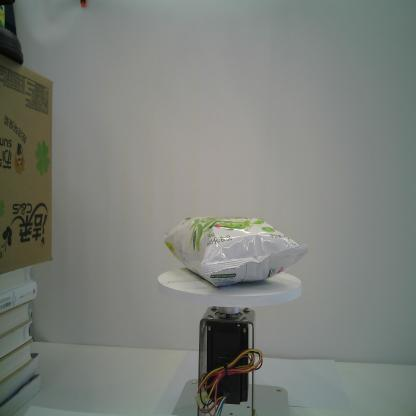Puffed Food: (164, 215, 310, 287)
